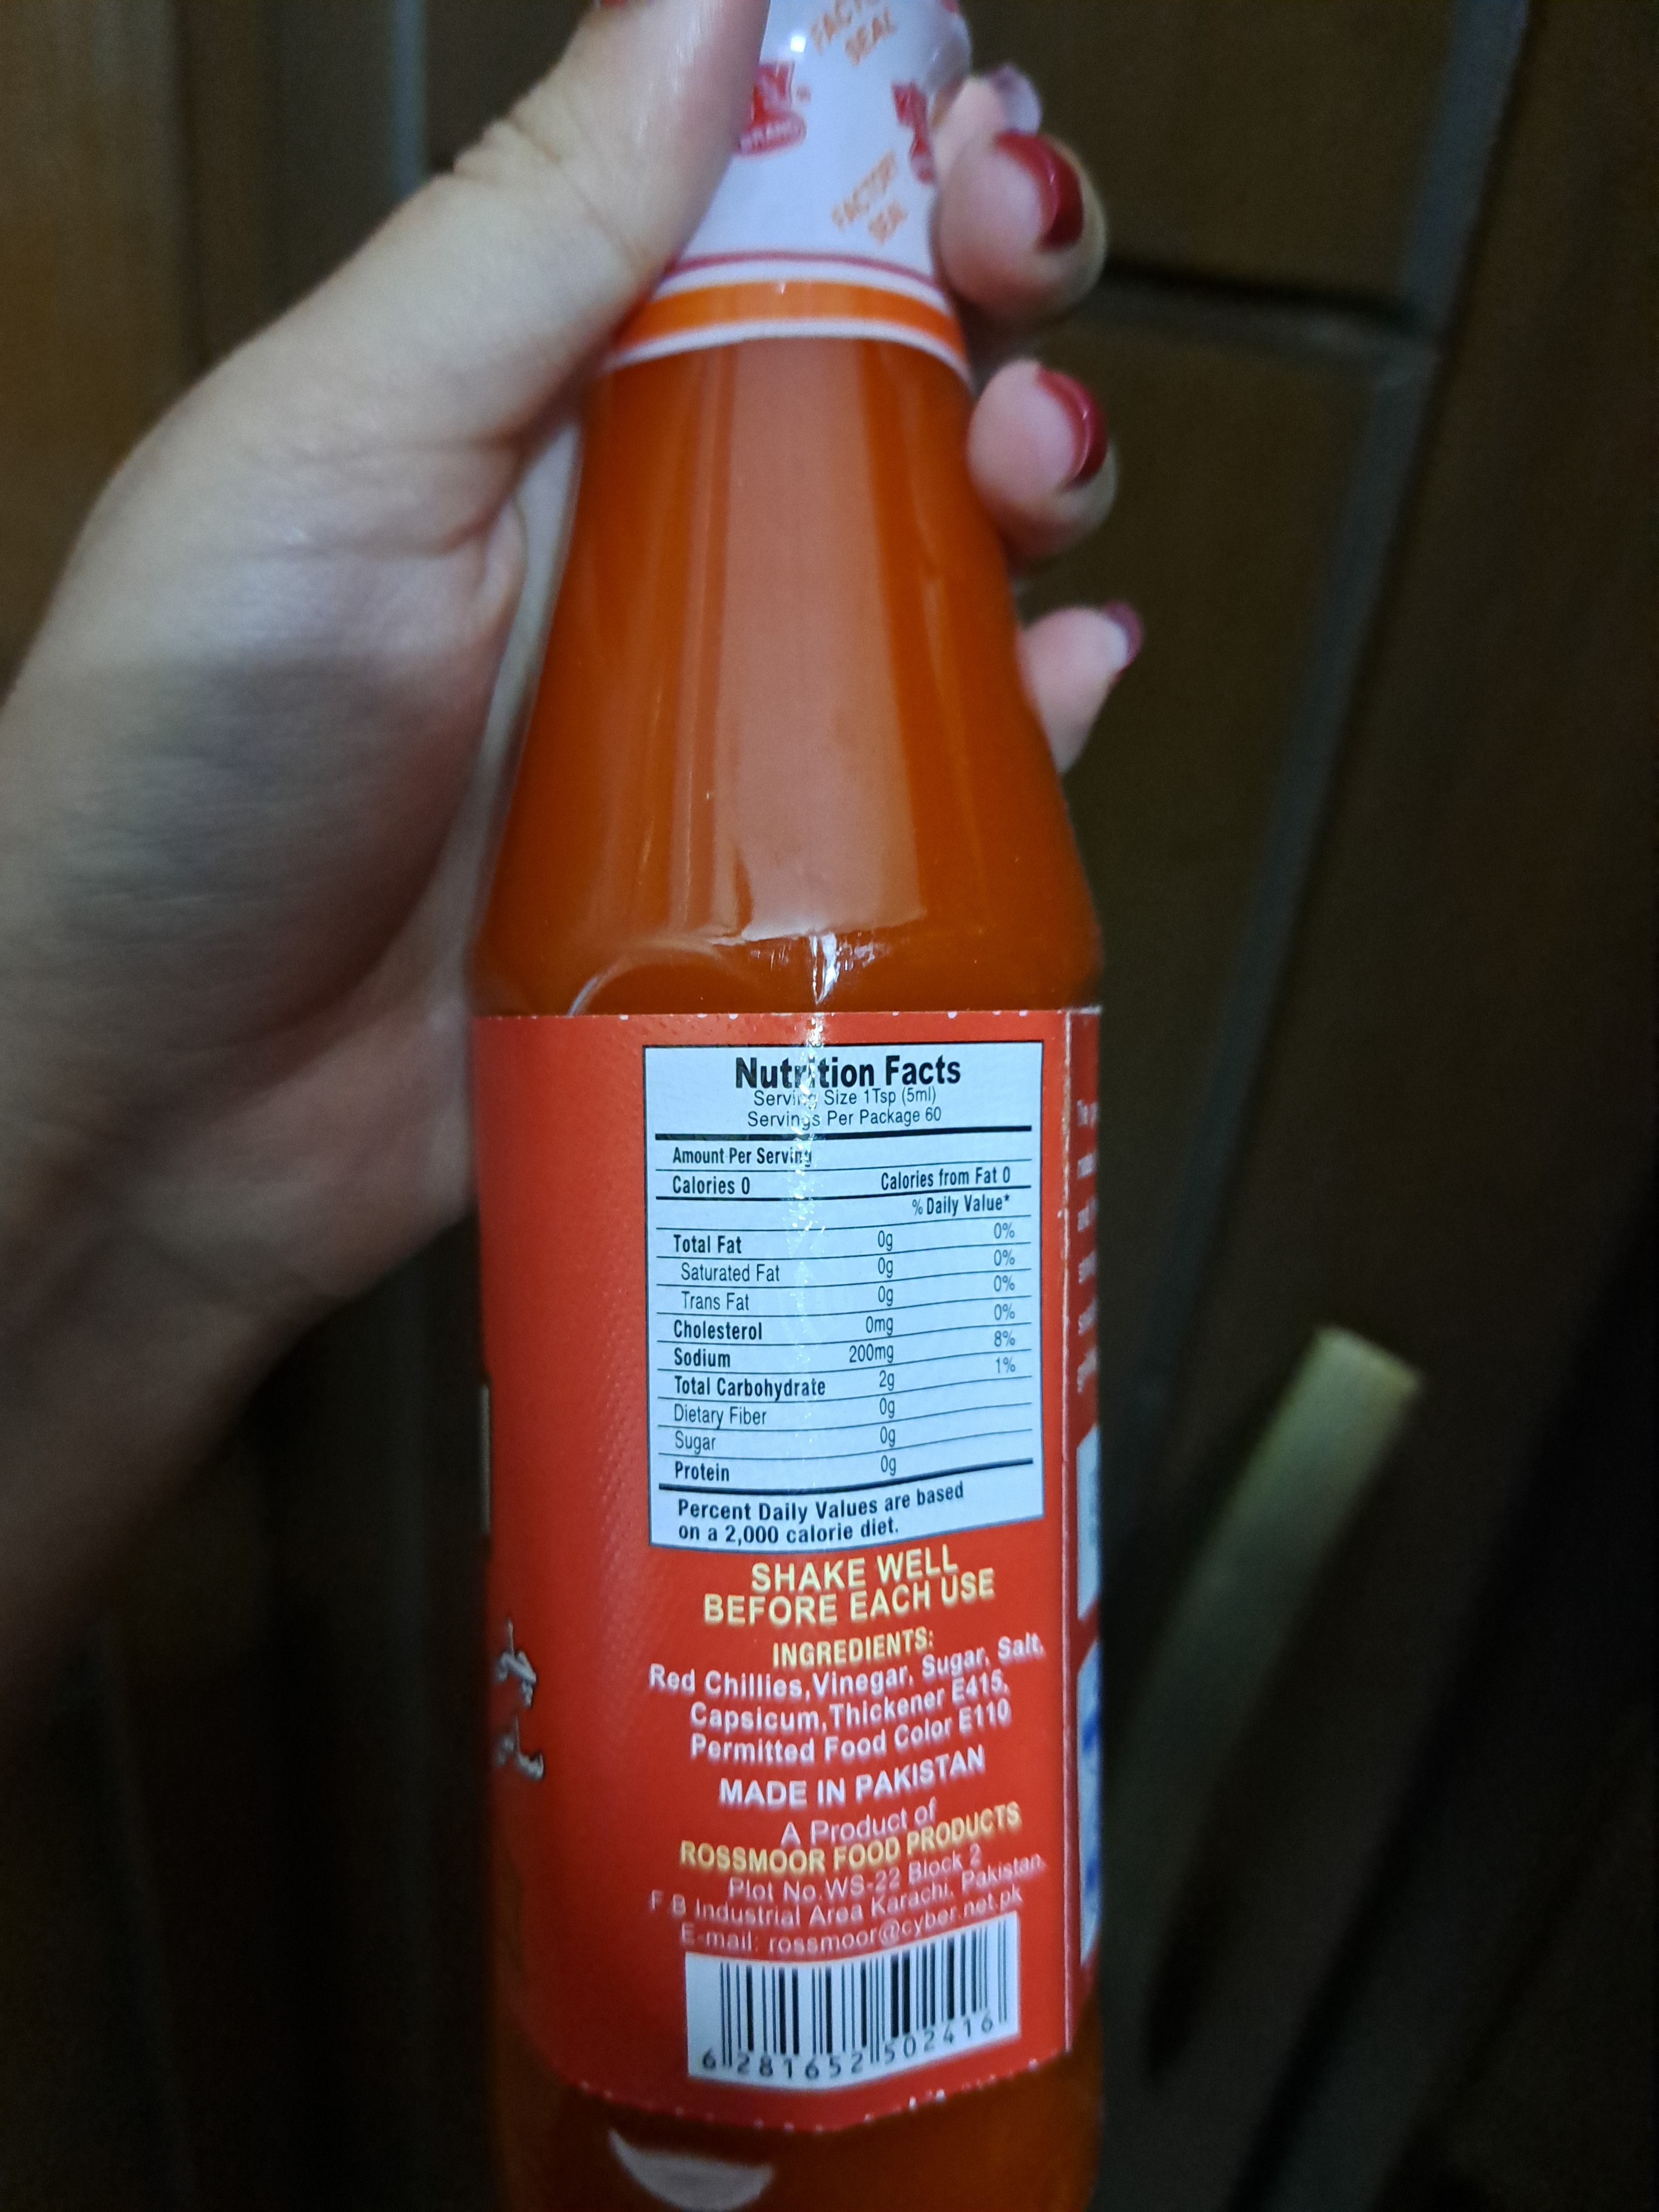table: (645, 1043, 1056, 1531)
